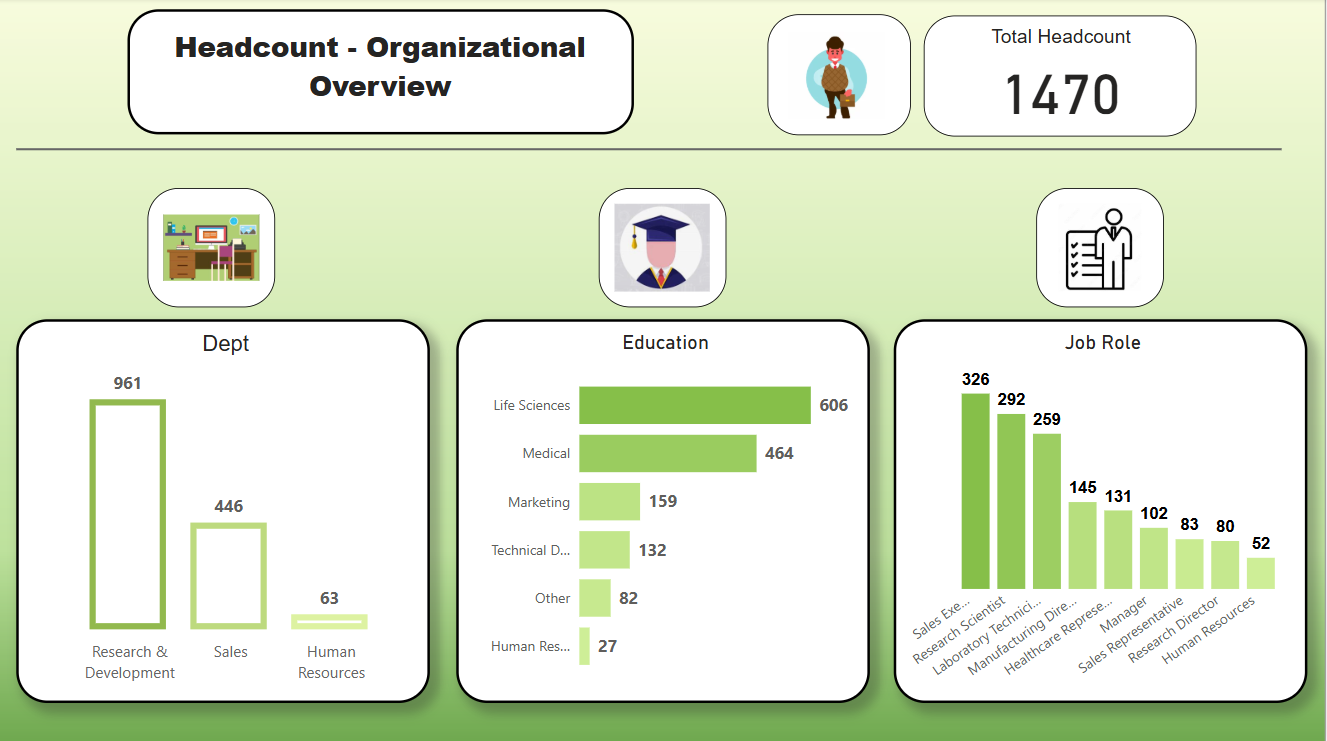

Layout of this report page (visuals, bound fields, positions):
{"tool":"powerbi","page":{"name":"HC - Drill through N","canvas":[1280,720],"ordinal":0},"visuals":[{"type":"card","title":"Total Headcount","fields":{"Values":["Count(HR_Employee_Attrition__1.EmployeeNumber)"]},"box":[891.7,16.5,263.5,116.6],"z":0},{"type":"columnChart","title":"Dept","fields":{"Y":["Count(HR_Employee_Attrition__1.EmployeeNumber)"],"Category":["HR_Employee_Attrition__1.Department"]},"box":[15.1,310.1,399.3,370.5],"z":1000},{"type":"barChart","title":"Education","fields":{"Y":["Count(HR_Employee_Attrition__1.EmployeeNumber)"],"Category":["HR_Employee_Attrition__1.EducationField"]},"box":[440.5,310.1,399.3,370.5],"z":2000},{"type":"image","box":[740.7,15.1,138.6,116.6],"z":3000},{"type":"columnChart","title":"Job Role","fields":{"Y":["Count(HR_Employee_Attrition__1.EmployeeNumber)"],"Category":["HR_Employee_Attrition__1.JobRole"]},"box":[862.6,310.1,399.3,370.5],"z":4000},{"type":"image","box":[577.7,183.9,123.5,115.3],"z":5000},{"type":"image","box":[142.2,183.9,123.5,115.3],"z":6000},{"type":"shape","box":[15.1,71.4,1221.3,149.6],"z":7000},{"type":"textbox","box":[123.5,11,488.5,120.8],"z":8000},{"type":"image","box":[1000.3,183.9,123.5,115.3],"z":9000}]}

Visuals, with their boxes in screenshot pixels (x1, y1, x2, y2), scaled from the page's 1280x720 canvas onto the 1327x741 screenshot:
"Total Headcount" card: 924, 17, 1198, 137
"Dept" columnChart: 16, 319, 430, 700
"Education" barChart: 457, 319, 871, 700
image: 768, 16, 912, 136
"Job Role" columnChart: 894, 319, 1308, 700
image: 599, 189, 727, 308
image: 147, 189, 275, 308
shape: 16, 73, 1282, 227
textbox: 128, 11, 634, 136
image: 1037, 189, 1165, 308
